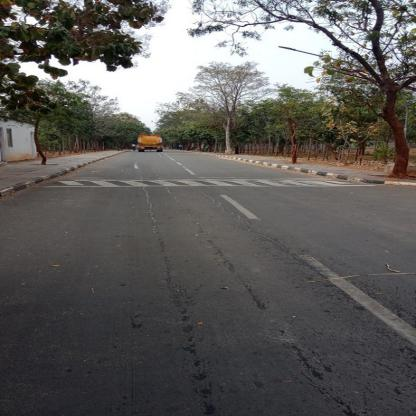speed-bumps: (40, 171, 369, 193)
